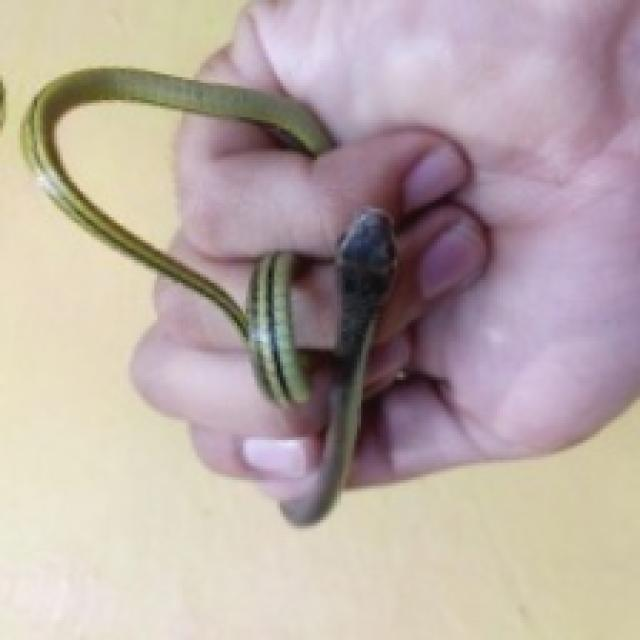luzon bronzeback treesnake: (20, 69, 394, 523)
